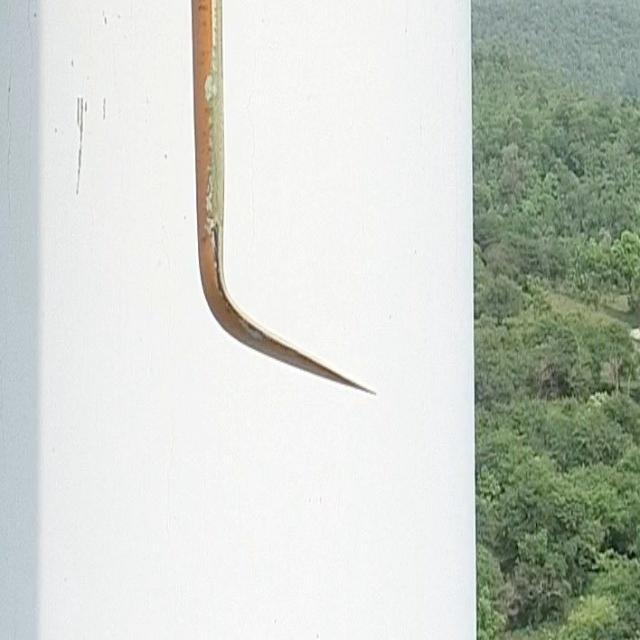EROSION: (198, 84, 257, 338)
